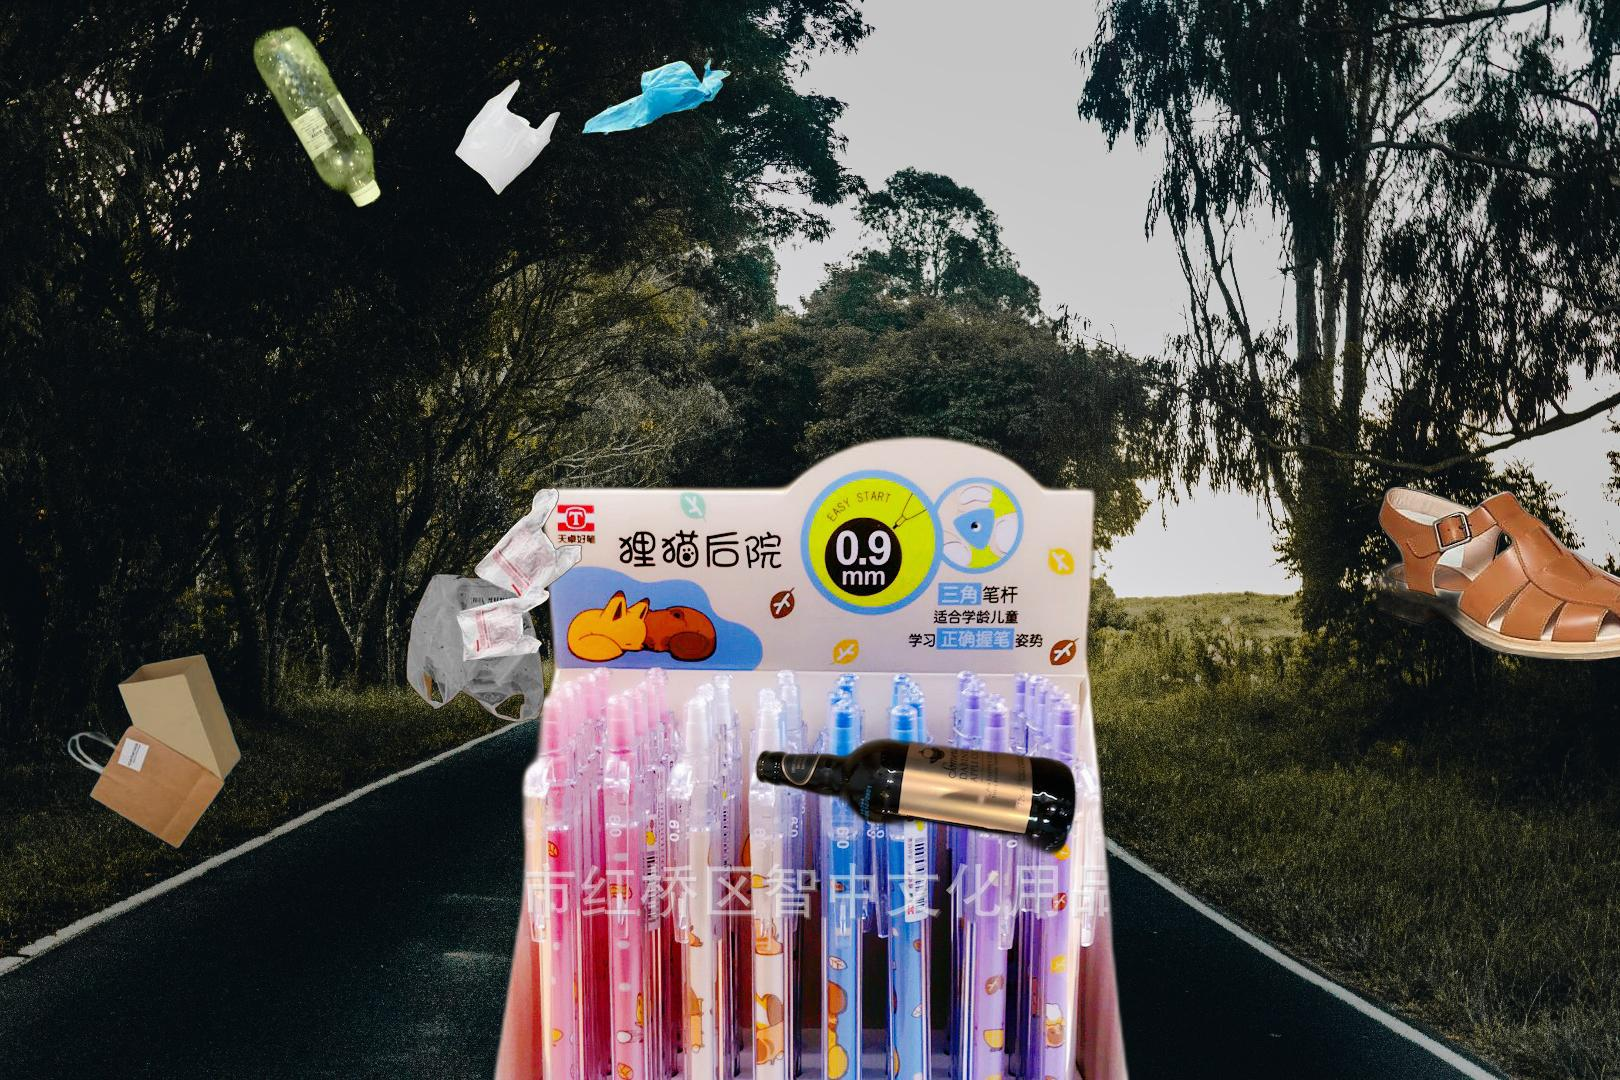glass: (751, 736, 1080, 858)
metal-cans: (533, 617, 908, 1080)
paper-bag: (64, 651, 243, 851)
penholder: (474, 425, 1147, 1080)
plastic-bag: (403, 487, 585, 724), (454, 52, 735, 198)
plastic-bottles: (250, 20, 385, 215)
shoes: (1370, 487, 1620, 661)
